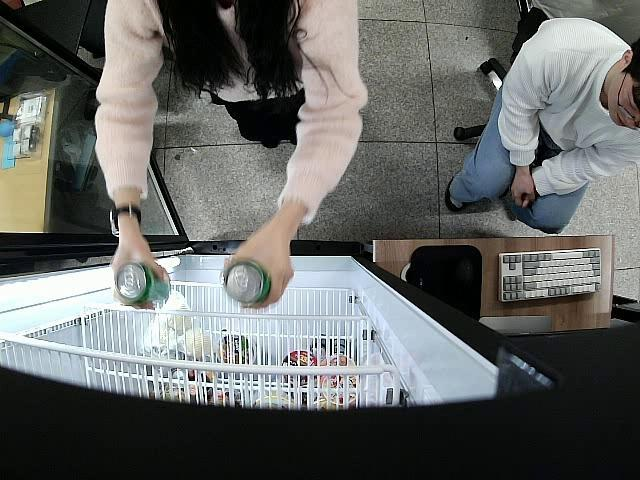12_chilsungCider: (115, 260, 172, 310), (222, 259, 274, 306)
